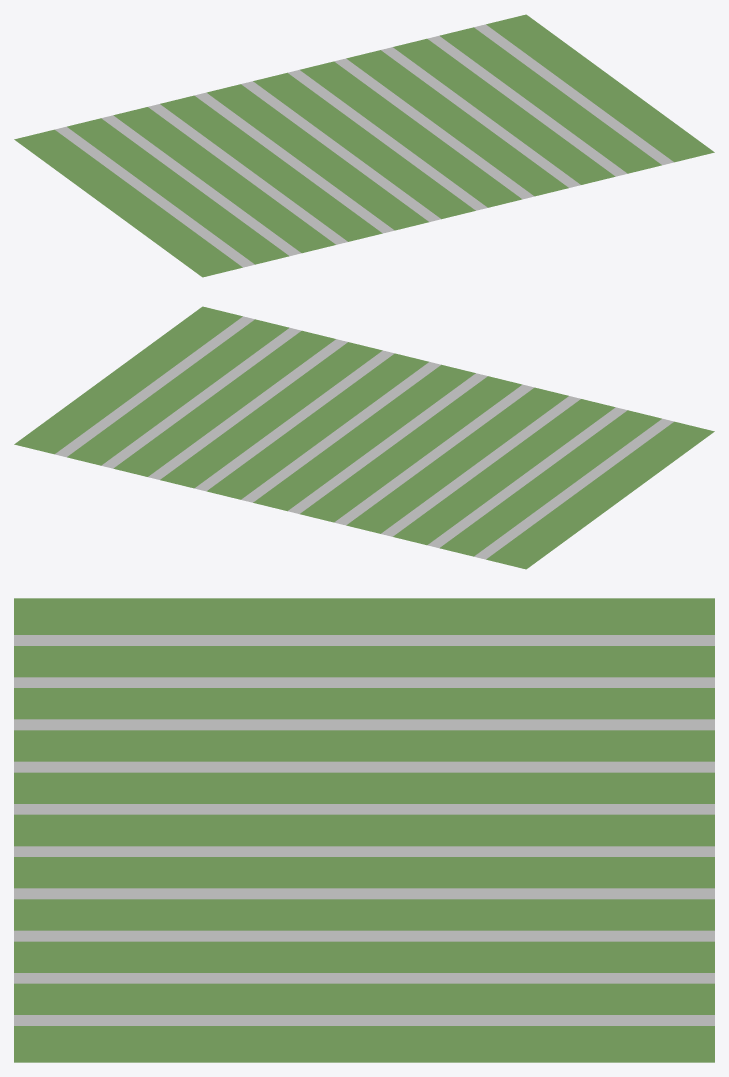
The model's file is Carpet_01.fbx.
The picture shows the model from 3 angles, top to bottom: view 1: azimuth 30°, elevation 25°; view 2: azimuth 150°, elevation 25°; view 3: azimuth 270°, elevation 25°; orthographic projection. The views are drawn at different scales.
Parts seen in each view (by area): view 1: Carpet_01; view 2: Carpet_01; view 3: Carpet_01.
Boxes of the visible parts, left/top/right/bottom form: Carpet_01: left=14, top=14, right=714, bottom=277; Carpet_01: left=14, top=306, right=714, bottom=569; Carpet_01: left=14, top=598, right=714, bottom=1062.
Bounding box in the file's own units: 1.58 × 1.75e-10 × 1.01.
